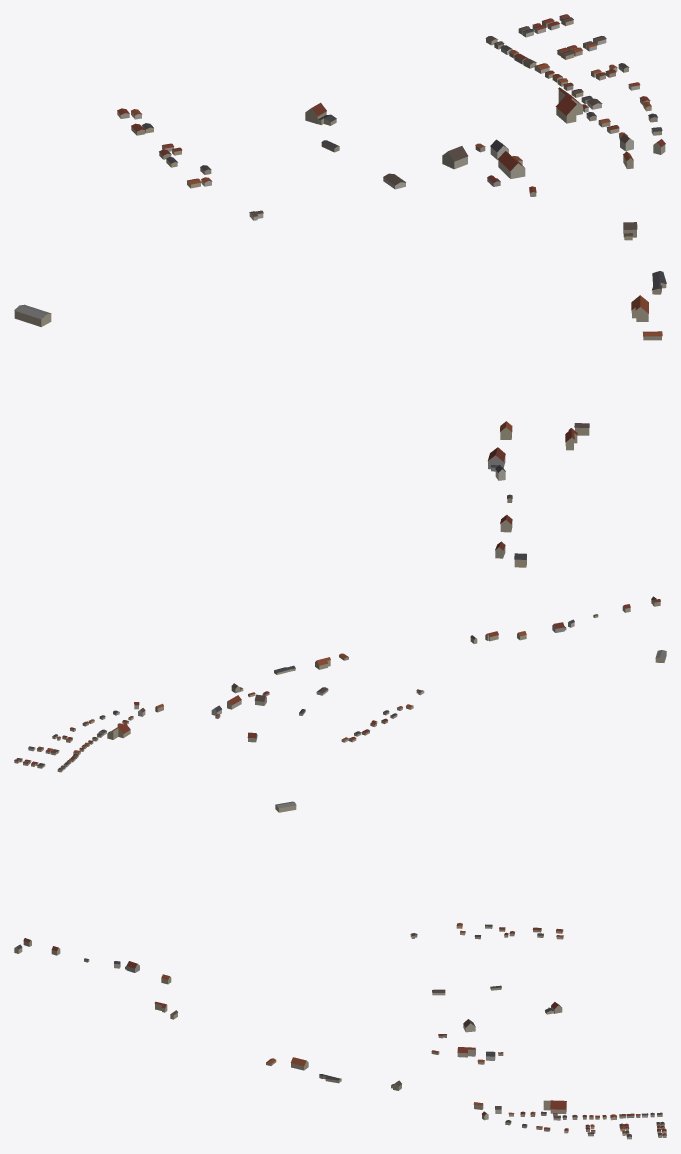
The picture shows the model from 3 angles, top to bottom: view 1: azimuth 30°, elevation 25°; view 2: azimuth 150°, elevation 25°; view 3: azimuth 270°, elevation 25°; orthographic projection. The views are drawn at different scales.
Visible parts, largest first — view 1: buildings; view 2: buildings; view 3: buildings.
Boxes of the visible parts, x1=… form: buildings: x1=14, y1=14, x2=666, y2=567; buildings: x1=14, y1=596, x2=666, y2=772; buildings: x1=14, y1=801, x2=666, y2=1139.
Bounding box in the file's own units: 684 × 125 × 773.
